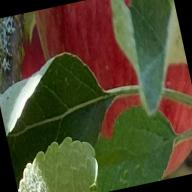Apples: (33, 0, 192, 192), (10, 24, 49, 80)
